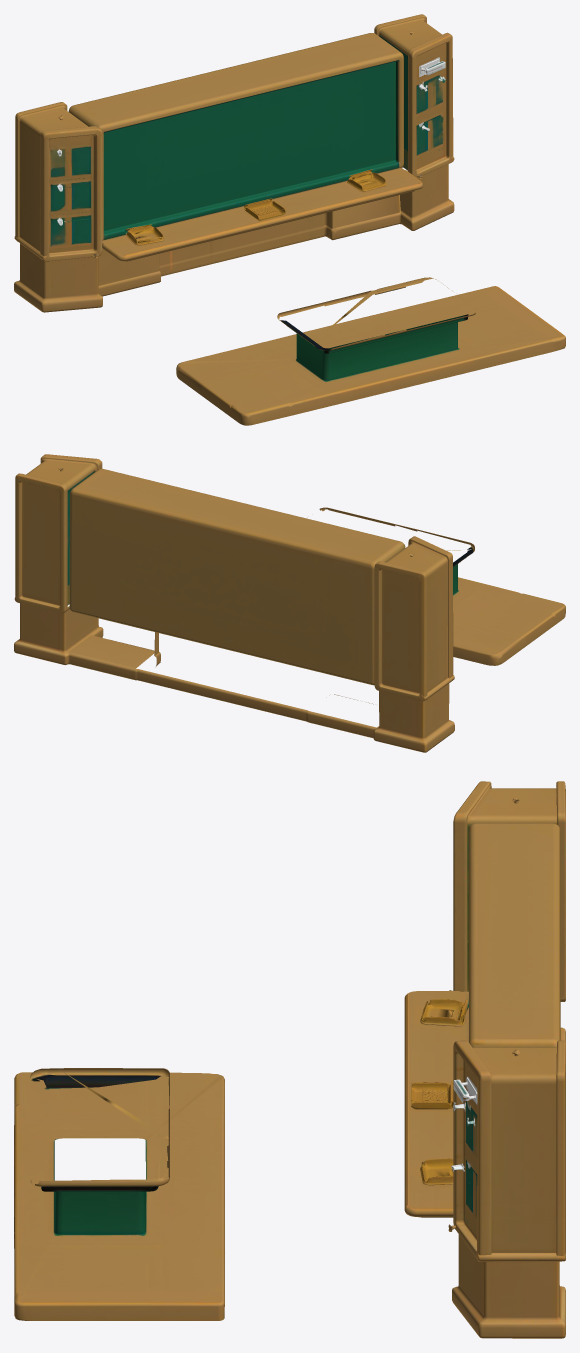
Rendered from toonstudio_classroom_board.glb.
3 views of the same model, one above another, from view 1: azimuth 30°, elevation 25°; view 2: azimuth 150°, elevation 25°; view 3: azimuth 270°, elevation 25° (orthographic). The views are drawn at different scales.
Visible parts, largest first — view 1: tripo_82672055_9e3e_4c3a_bc2d_f406660cf422; view 2: tripo_82672055_9e3e_4c3a_bc2d_f406660cf422; view 3: tripo_82672055_9e3e_4c3a_bc2d_f406660cf422.
Part boxes in pixels (box(x1,y1,x2,y2)): tripo_82672055_9e3e_4c3a_bc2d_f406660cf422: box(14, 14, 565, 425); tripo_82672055_9e3e_4c3a_bc2d_f406660cf422: box(14, 454, 565, 752); tripo_82672055_9e3e_4c3a_bc2d_f406660cf422: box(14, 781, 565, 1338).
Size of the model in its own units: 5.5 by 2.42 by 4.32.
1 material, 1 textured.
